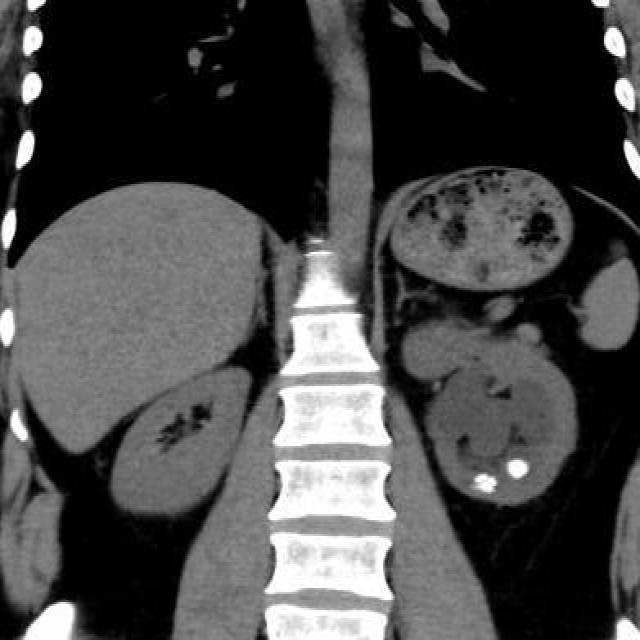Tas_Var: (506, 457, 530, 479), (472, 470, 489, 484), (480, 481, 496, 493), (486, 476, 501, 486)
